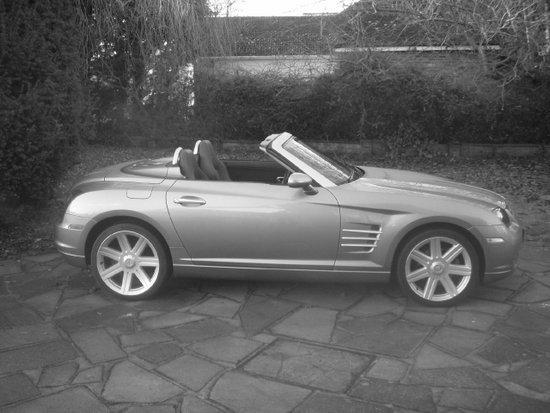car: (52, 134, 531, 309)
